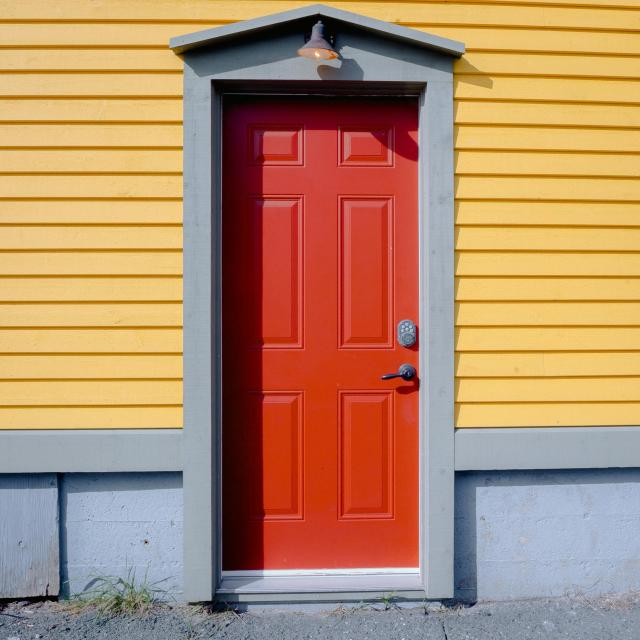door-handle: (382, 364, 416, 381)
